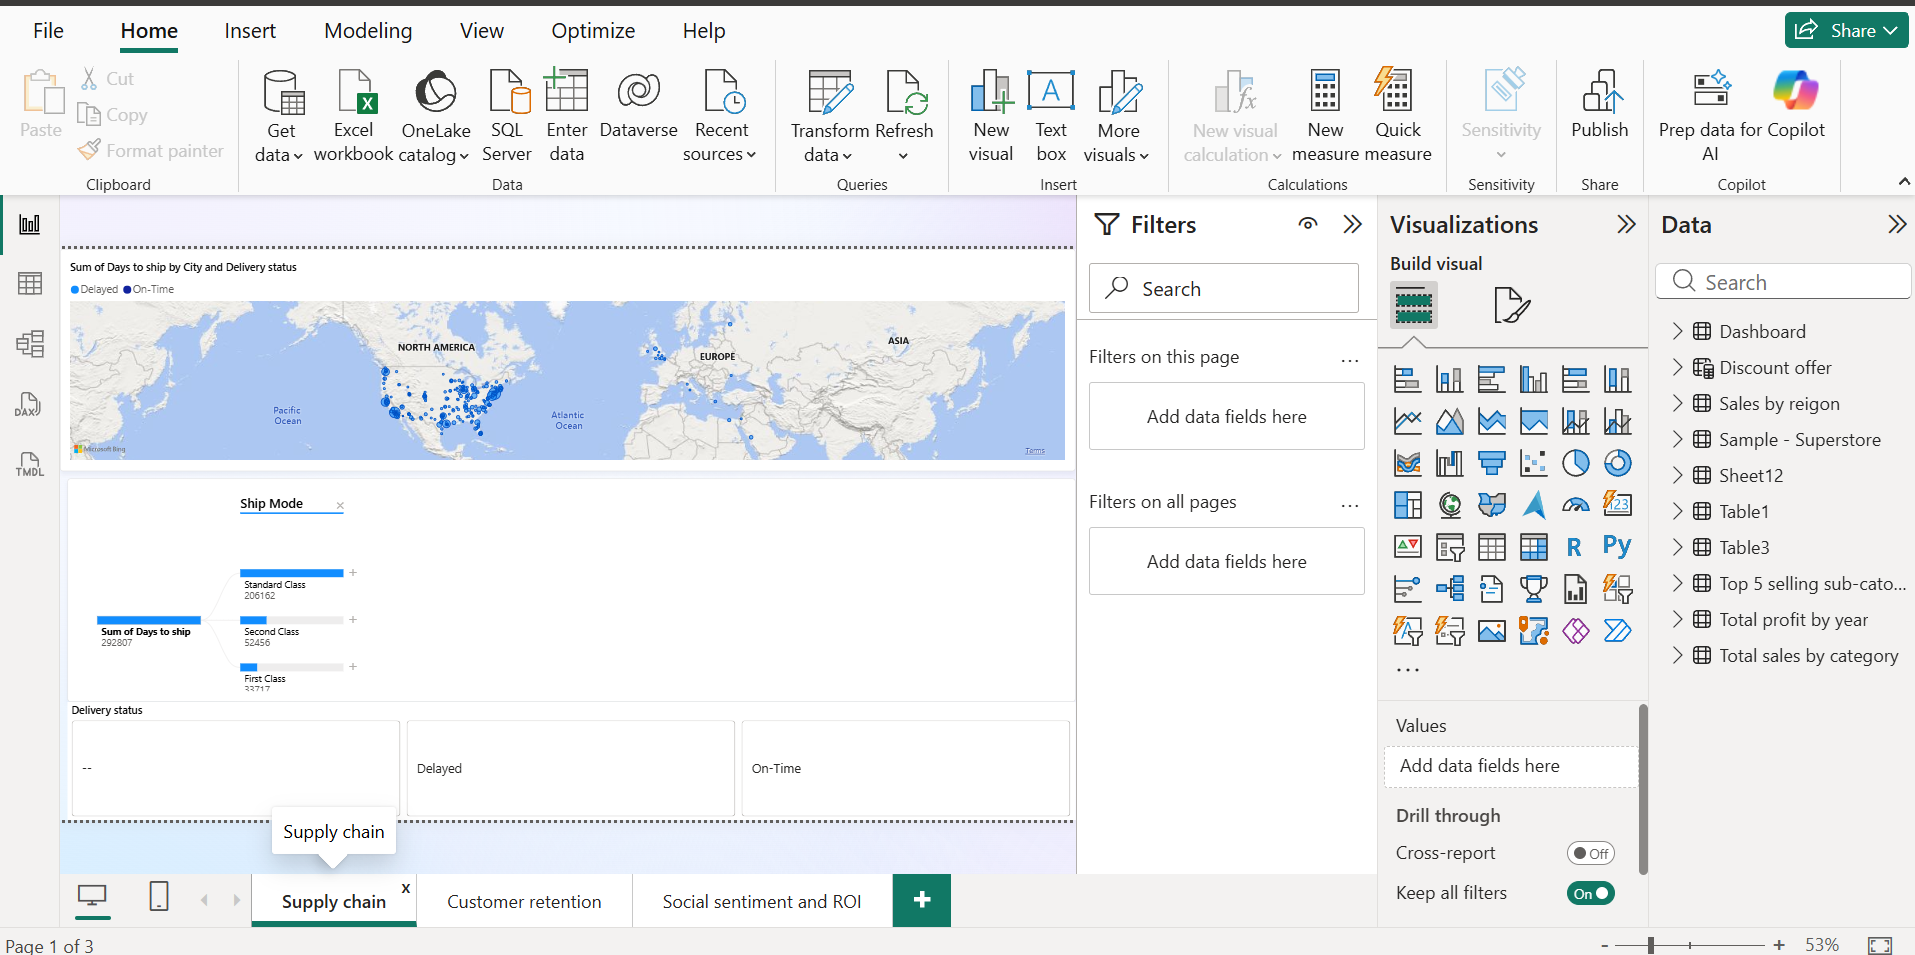

This screenshot's page, from the dashboard's own definition file:
{"tool":"powerbi","page":{"name":"Supply chain","canvas":[1280,720],"ordinal":0},"visuals":[{"type":"map","fields":{"Size":["Sum(Table1.Days to ship)"],"Series":["Table1.Delivery status"],"Category":["Table1.City"]},"box":[0,0,1279.4,279.7],"z":0},{"type":"decompositionTreeVisual","fields":{"Analyze":["Sum(Table1.Days to ship)"],"ExplainBy":["Table1.Ship Mode","Table1.Region","Table1.Category"]},"box":[9.4,289.1,1269.9,281.6],"z":1000},{"type":"advancedSlicerVisual","fields":{"Values":["Table1.Delivery status"]},"box":[9.4,570.7,1269.9,149.3],"z":2000}]}

Visuals, with their boxes on the page's 1280x720 design canvas (x1, y1, x2, y2). These are canvas units, not pixel positions in the 1915x955 screenshot, which may show the page scaled, cropped or inside an application window:
map - Sum(Table1.Days to ship) x Table1.Delivery status: {"left": 0, "top": 0, "right": 1279, "bottom": 280}
decompositionTreeVisual - Sum(Table1.Days to ship) x Table1.Ship Mode: {"left": 9, "top": 289, "right": 1279, "bottom": 571}
advancedSlicerVisual - Table1.Delivery status: {"left": 9, "top": 571, "right": 1279, "bottom": 720}
